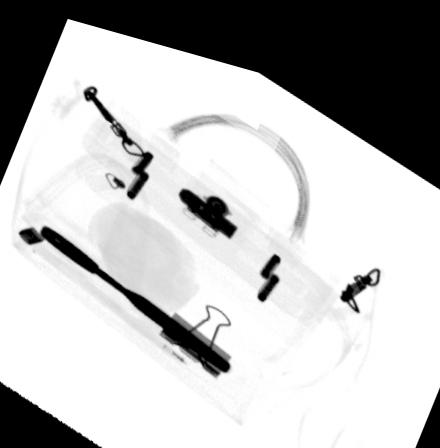Pliers: (38, 222, 231, 361)
